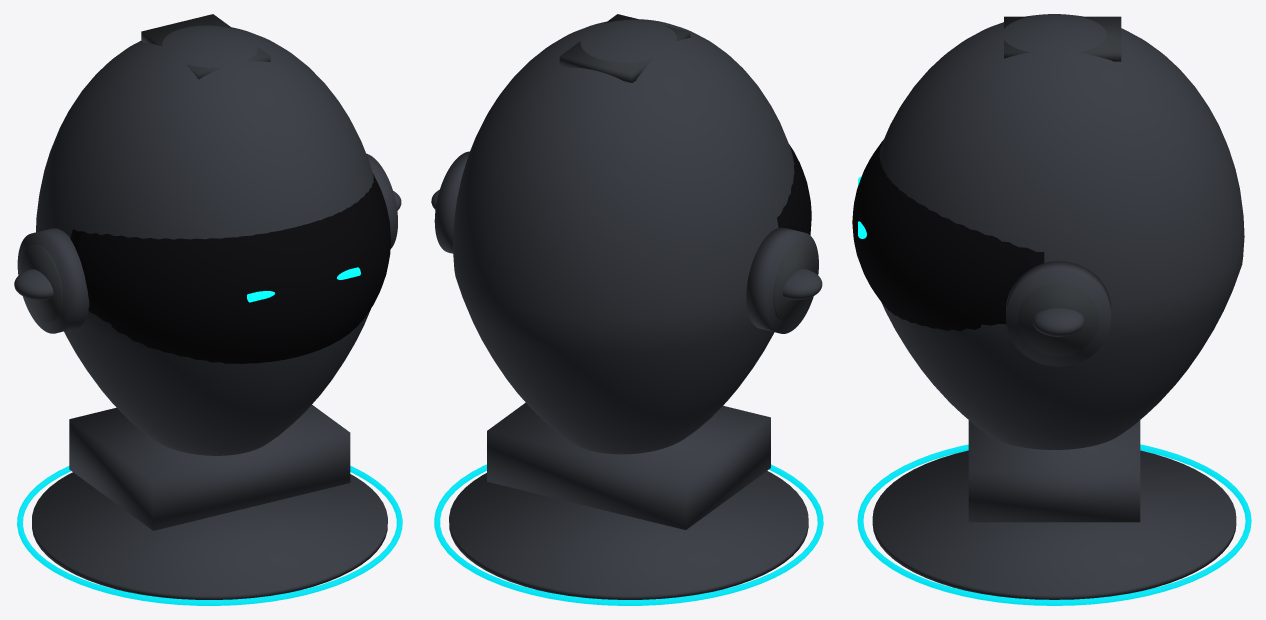
File: robot.glb
3 renders of one model, left to right at view 1: azimuth 30°, elevation 25°; view 2: azimuth 150°, elevation 25°; view 3: azimuth 270°, elevation 25°, orthographic. The views are drawn at different scales.
Parts seen in each view (by area): view 1: Head, Visor, Holo_Base_Core, Shoulders, Holo_Light_Ring, Ear_L, Ear_L_Mid, Crown, Ear_L_Inner, Ear_R; view 2: Head, Holo_Base_Core, Shoulders, Holo_Light_Ring, Ear_L, Crown, Ear_L_Mid, Ear_R, Visor, Ear_L_Inner; view 3: Head, Holo_Base_Core, Visor, Shoulders, Holo_Light_Ring, Ear_R, Ear_R_Mid, Crown, Ear_R_Inner.
Boxes of the visible parts, x1,y1,x2,y2 form: Head: (36, 25, 373, 455); Visor: (70, 173, 390, 363); Holo_Base_Core: (32, 472, 387, 599); Shoulders: (69, 405, 350, 530); Holo_Light_Ring: (17, 466, 402, 605); Ear_L: (17, 228, 89, 333); Ear_L_Mid: (21, 245, 63, 322); Crown: (141, 14, 270, 79); Ear_L_Inner: (14, 269, 53, 300); Ear_R: (366, 153, 397, 248); Head: (453, 19, 794, 454); Holo_Base_Core: (449, 471, 808, 599); Shoulders: (487, 402, 770, 529); Holo_Light_Ring: (434, 464, 823, 605); Ear_L: (746, 227, 818, 333); Crown: (559, 14, 690, 82); Ear_L_Mid: (773, 244, 815, 322); Ear_R: (434, 151, 469, 253); Visor: (777, 144, 811, 235); Ear_L_Inner: (782, 269, 822, 299); Head: (879, 14, 1244, 449); Holo_Base_Core: (872, 450, 1236, 599); Visor: (852, 139, 1044, 331); Shoulders: (968, 420, 1140, 522); Holo_Light_Ring: (857, 444, 1251, 605); Ear_R: (1006, 261, 1110, 366); Ear_R_Mid: (1018, 282, 1098, 356); Crown: (1004, 16, 1121, 61); Ear_R_Inner: (1032, 308, 1084, 336).
Bounding box in the file's own units: 2.22 × 2.71 × 1.97.
